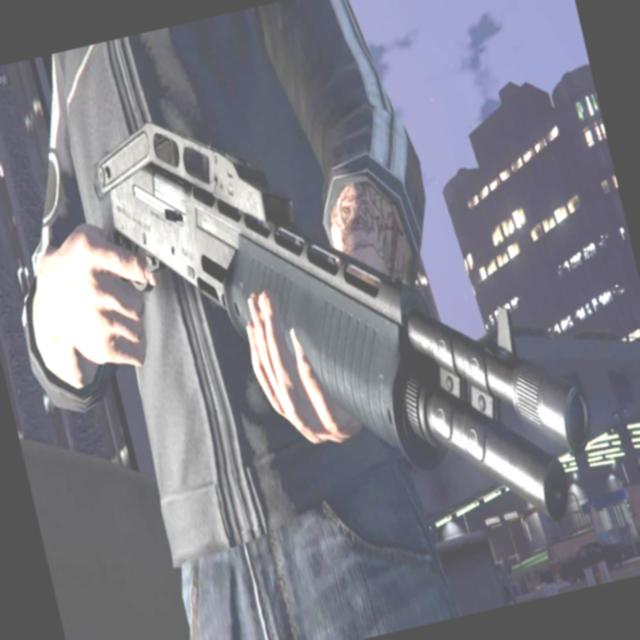shotgun: (76, 49, 594, 596)
